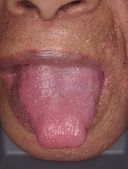tongue: (17, 69, 103, 151)
